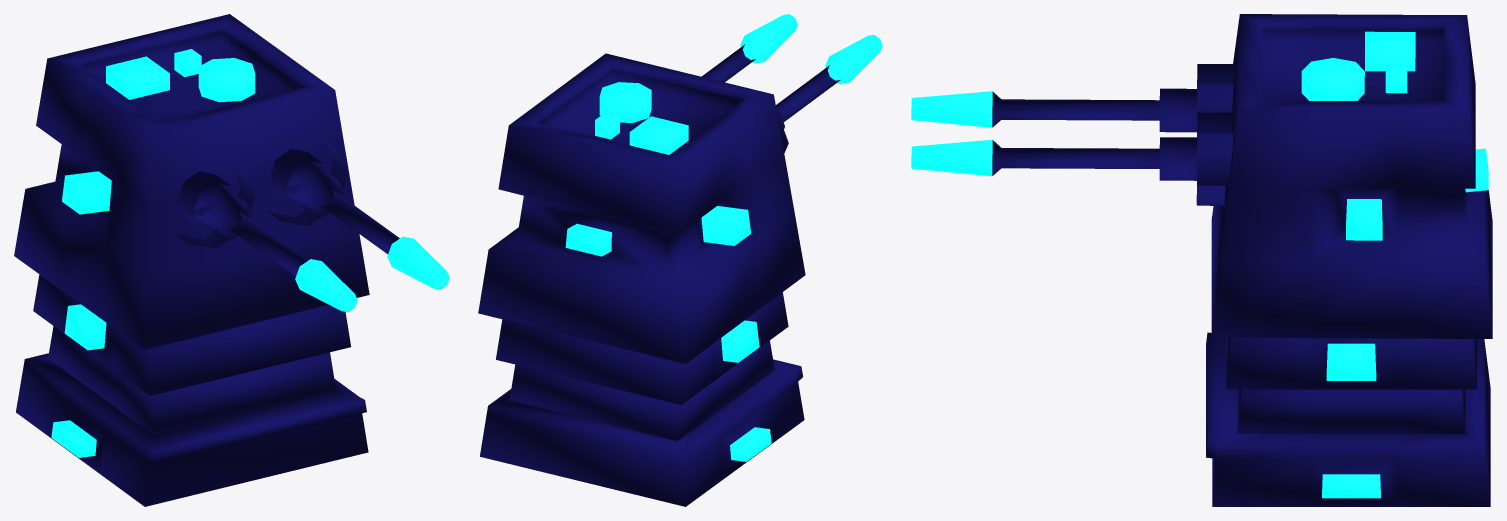
File: torreta.fbx
3 renders of one model, left to right at view 1: azimuth 30°, elevation 25°; view 2: azimuth 150°, elevation 25°; view 3: azimuth 270°, elevation 25°, orthographic. The views are drawn at different scales.
Parts seen in each view (by area): view 1: Circle; view 2: Circle; view 3: Circle.
Boxes of the visible parts, x1=… form: Circle: x1=14, y1=14, x2=449, y2=506; Circle: x1=478, y1=14, x2=882, y2=506; Circle: x1=911, y1=14, x2=1492, y2=506.
Bounding box in the file's own units: 66.02 × 89.91 × 121.
